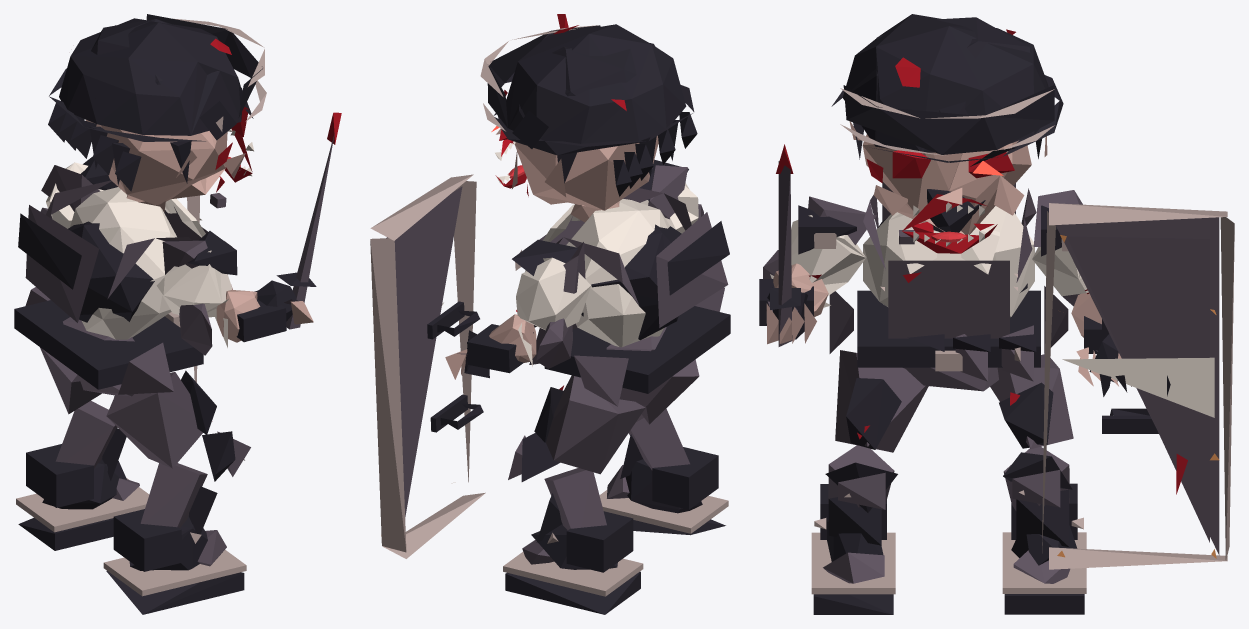
File: inf.riot-cop.lod2.glb
The picture shows the model from 3 angles, left to right: view 1: azimuth 30°, elevation 25°; view 2: azimuth 150°, elevation 25°; view 3: azimuth 270°, elevation 25°; orthographic projection. The views are drawn at different scales.
Visible parts, largest first — view 1: head, torso, hip, footR, footL, legR, shinR, armR, foreArmR, shinL, handR, armL (+1 smaller); view 2: head, shield, torso, footL, hip, footR, legL, armL, shinL, foreArmL, shinR, armR (+2 smaller); view 3: shield, head, torso, hip, footR, footL, legR, armR, shinR, shinL, legL, handR (+4 smaller).
Boxes of the visible parts, left/top/right/bottom form: head: left=48, top=14, right=266, bottom=212; torso: left=18, top=180, right=207, bottom=339; hip: left=14, top=287, right=203, bottom=396; footR: left=103, top=509, right=246, bottom=614; footL: left=16, top=444, right=149, bottom=550; legR: left=106, top=370, right=216, bottom=468; shinR: left=140, top=431, right=250, bottom=534; armR: left=156, top=231, right=237, bottom=317; foreArmR: left=179, top=290, right=286, bottom=355; shinL: left=55, top=396, right=126, bottom=480; handR: left=257, top=112, right=341, bottom=329; armL: left=41, top=156, right=117, bottom=228; head: left=480, top=24, right=697, bottom=222; shield: left=370, top=174, right=485, bottom=558; torso: left=520, top=188, right=729, bottom=347; footL: left=503, top=511, right=643, bottom=614; hip: left=529, top=287, right=730, bottom=406; footR: left=599, top=447, right=728, bottom=535; legL: left=534, top=375, right=645, bottom=474; armL: left=512, top=239, right=592, bottom=330; shinL: left=508, top=433, right=606, bottom=542; foreArmL: left=467, top=314, right=572, bottom=373; shinR: left=620, top=408, right=689, bottom=478; armR: left=639, top=159, right=698, bottom=233; shield: left=1042, top=203, right=1234, bottom=569; head: left=831, top=14, right=1063, bottom=253; torso: left=863, top=182, right=1036, bottom=338; hip: left=829, top=286, right=1068, bottom=391; footR: left=811, top=484, right=895, bottom=614; footL: left=1002, top=483, right=1086, bottom=614; legR: left=835, top=350, right=928, bottom=452; armR: left=791, top=196, right=876, bottom=295; shinR: left=825, top=445, right=897, bottom=545; shinL: left=1003, top=447, right=1072, bottom=546; legL: left=990, top=354, right=1073, bottom=448; handR: left=766, top=144, right=816, bottom=346.
Bounding box in the file's own units: 0.6909 × 1.57 × 1.17.
